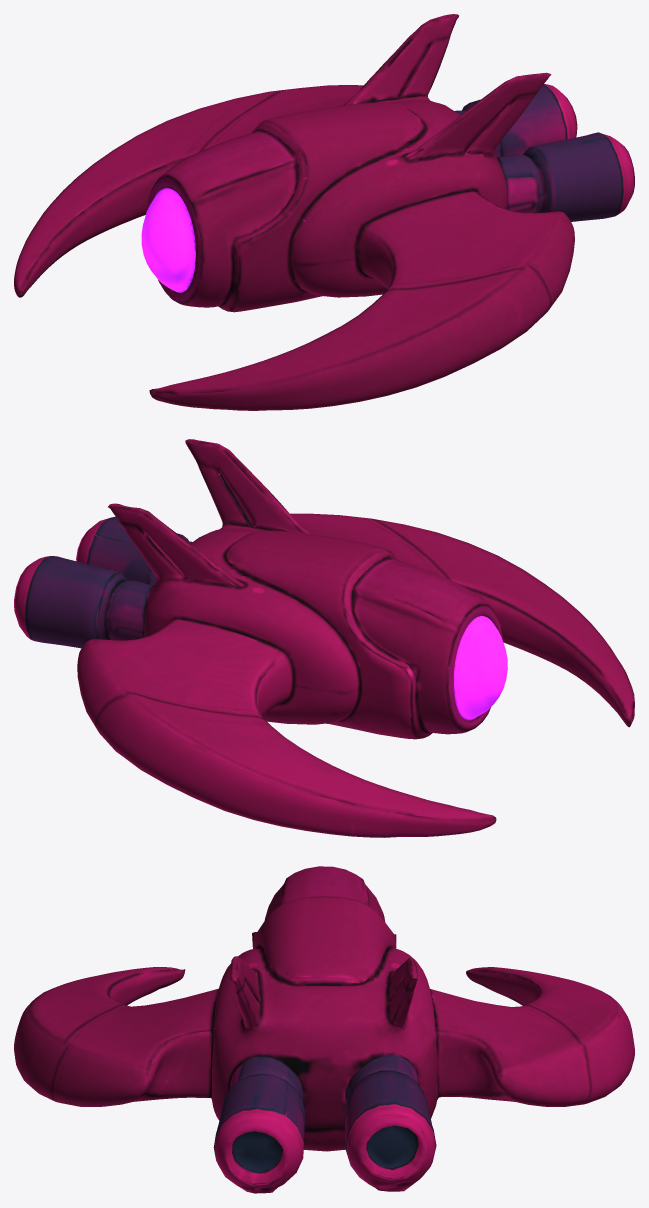
The model's file is enemy_raider.glb.
3 views of the same model, one above another, from view 1: azimuth 30°, elevation 25°; view 2: azimuth 150°, elevation 25°; view 3: azimuth 270°, elevation 25° (orthographic). The views are drawn at different scales.
Visible parts, largest first — view 1: EnemyRaider; view 2: EnemyRaider; view 3: EnemyRaider.
Boxes of the visible parts, x1,y1,x2,y2 form: EnemyRaider: [14, 14, 634, 410]; EnemyRaider: [14, 439, 634, 837]; EnemyRaider: [14, 866, 634, 1193].
Size of the model in its own units: 2 by 0.7846 by 1.97.
1 material, 1 textured.
